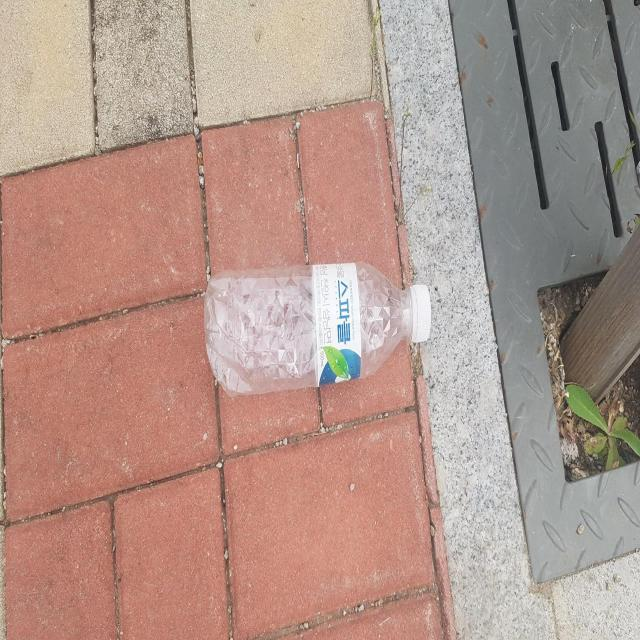plastic: (204, 261, 431, 395)
